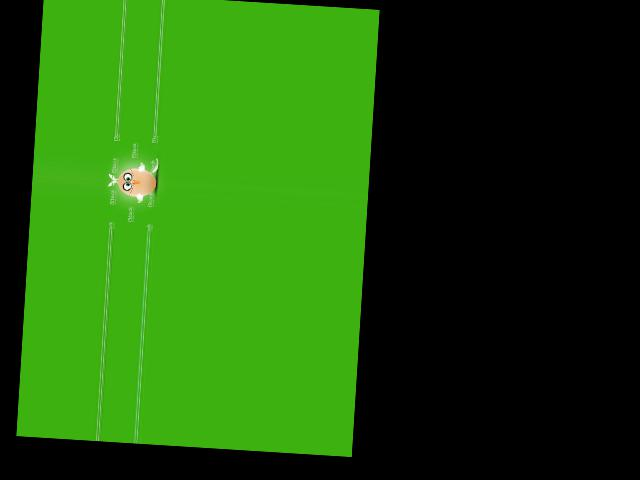egg: (117, 166, 157, 197)
